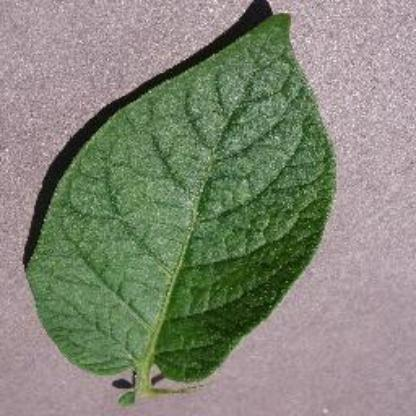Healthy-plant: (24, 9, 346, 401)
